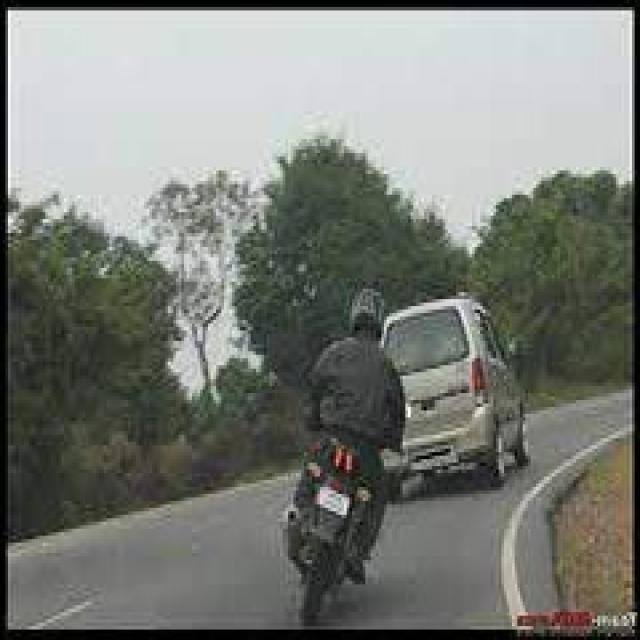car: (376, 270, 547, 492)
motorcycle: (252, 393, 407, 616)
